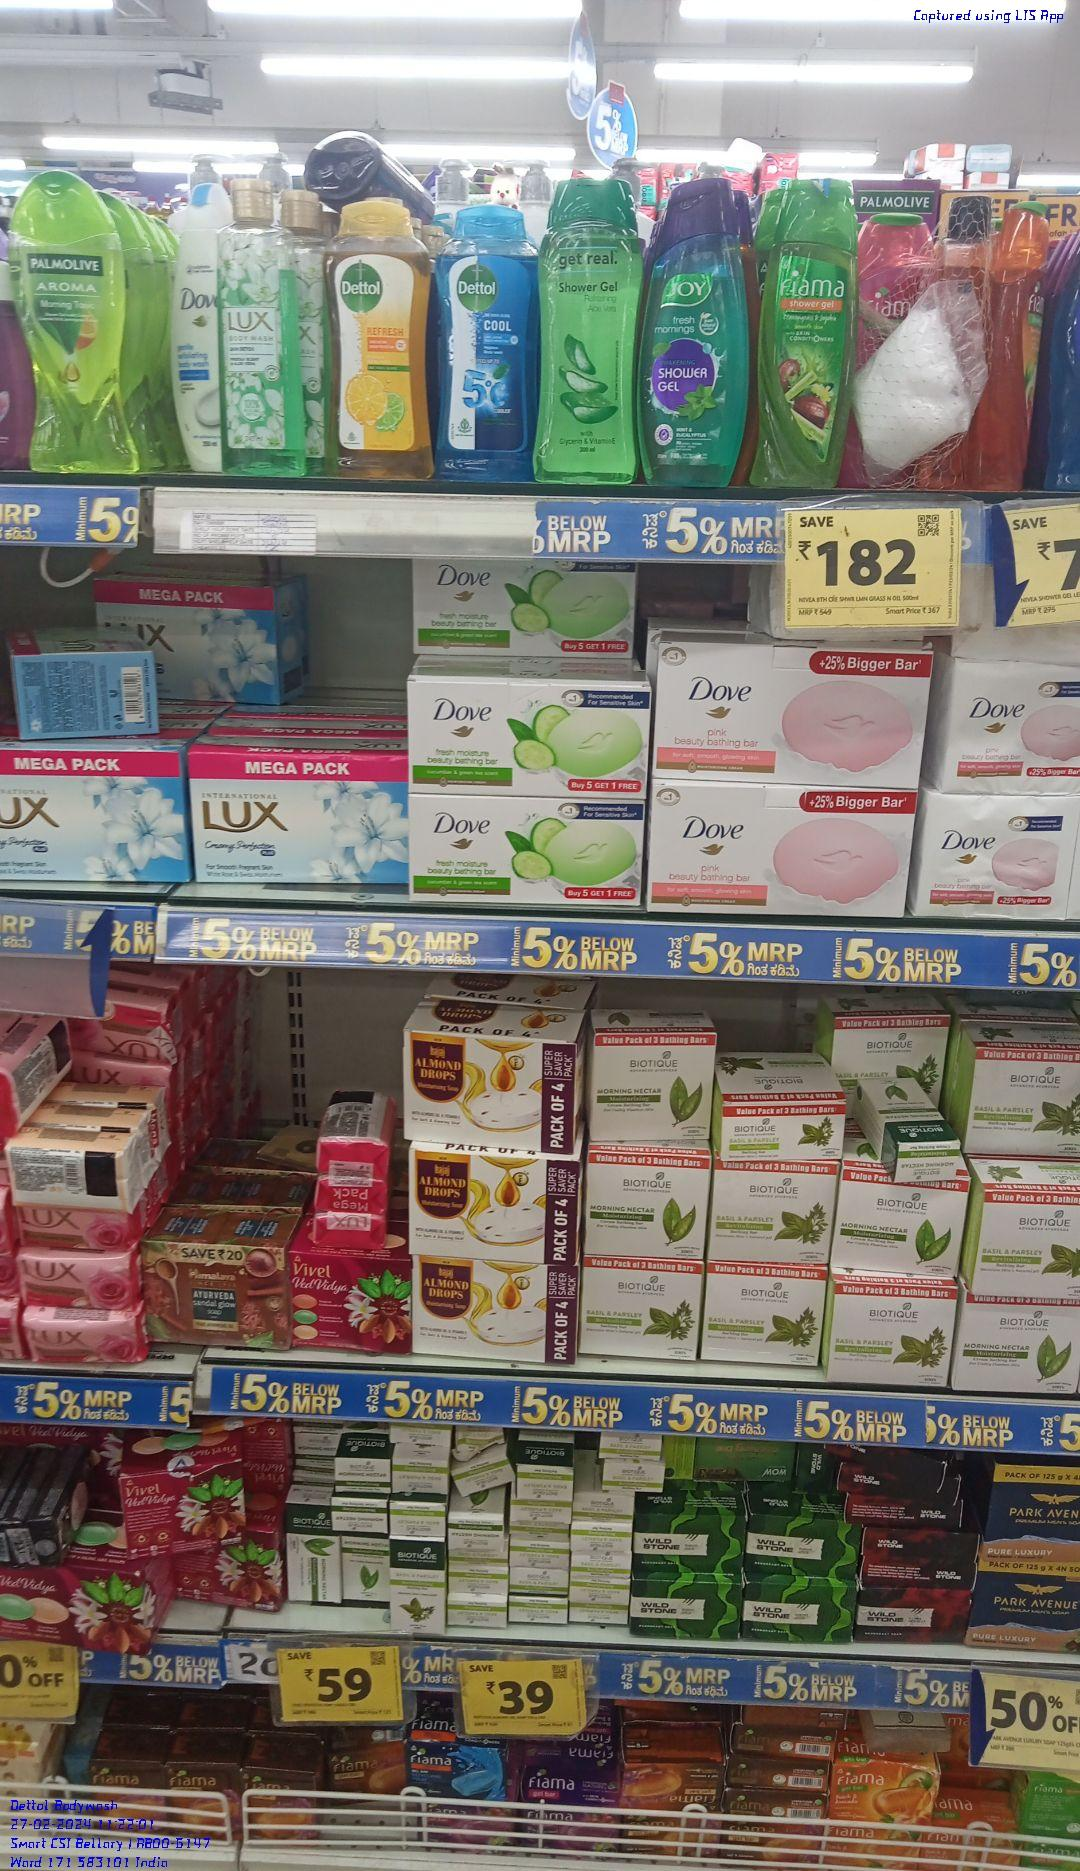Dettol_Bodywash_Cool: (438, 208, 537, 487)
Dettol_Bodywash_Refresh: (327, 193, 432, 482)
Fiama_Shower_Gel_Lemongrass_and_Jojoba_250ML: (757, 175, 847, 491)
Joy_Shower_Gel_Mint_and_Eucalyptus_250ML: (644, 179, 742, 488)
Lux_Body_Wash_Skin_Detox_Freesia_Scent_and_Alove_Vera_245ML: (215, 177, 296, 474)
Palmolive_Aroma_Morning_Tonic_Shower_Gel_250ML: (18, 166, 132, 478)
